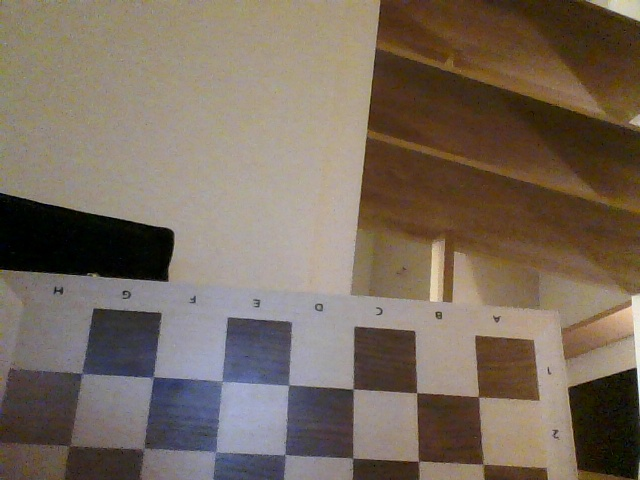schaak: (1, 268, 580, 478)
